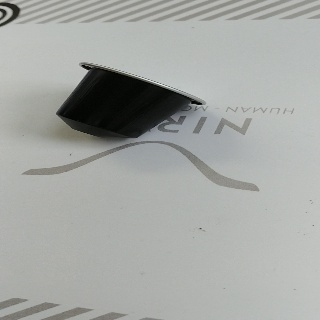capsule_10: (53, 60, 207, 141)
